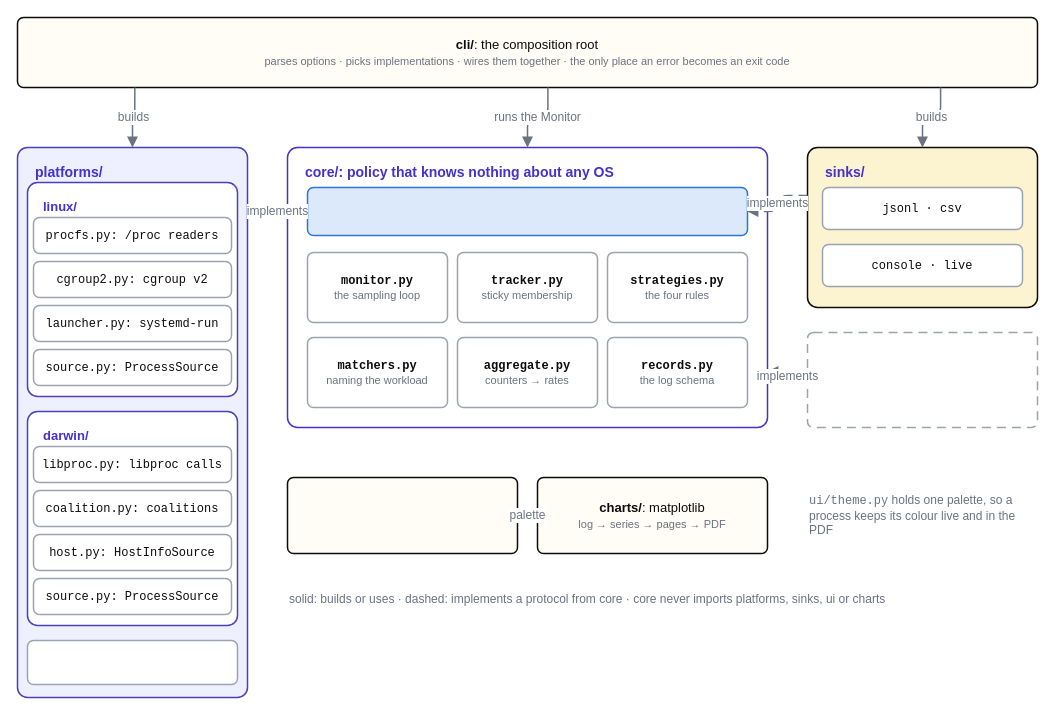
Image size: 1056x716. Some labels were removed from this diagram. Here are the shapes that lost their labels. From the top down, the centre of each, then its label:
At point (527, 211): "interfaces.py : the protocols every layer meets at".
At point (922, 379): "gpu/ the MetricCollector seam, nothing registered yet".
At point (402, 515): "ui/ : Rich dashboard · views · theme".
At point (132, 662): "posix.py the session launcher both share".
